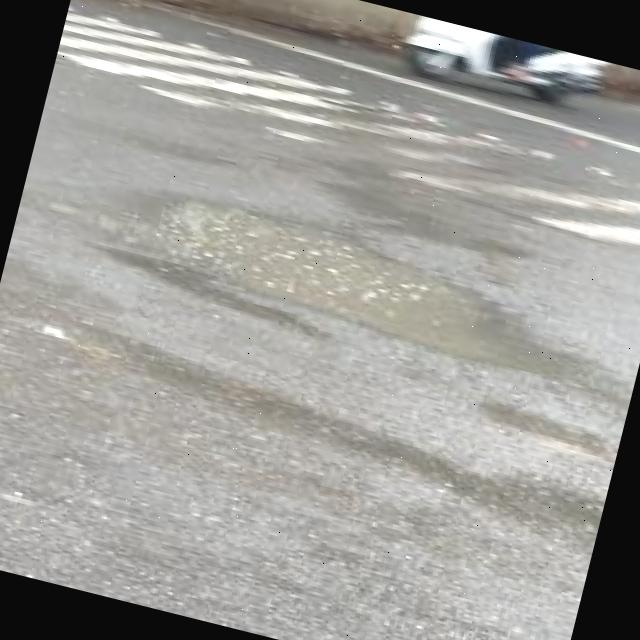waterlogging: (102, 171, 568, 386)
